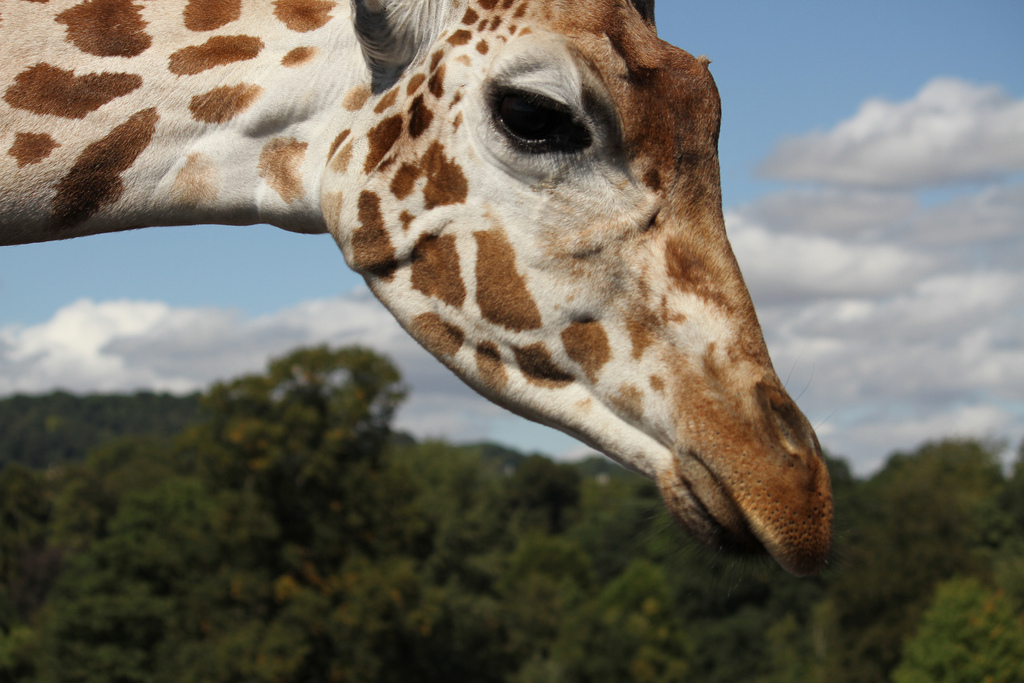giraffe: (1, 1, 862, 582)
